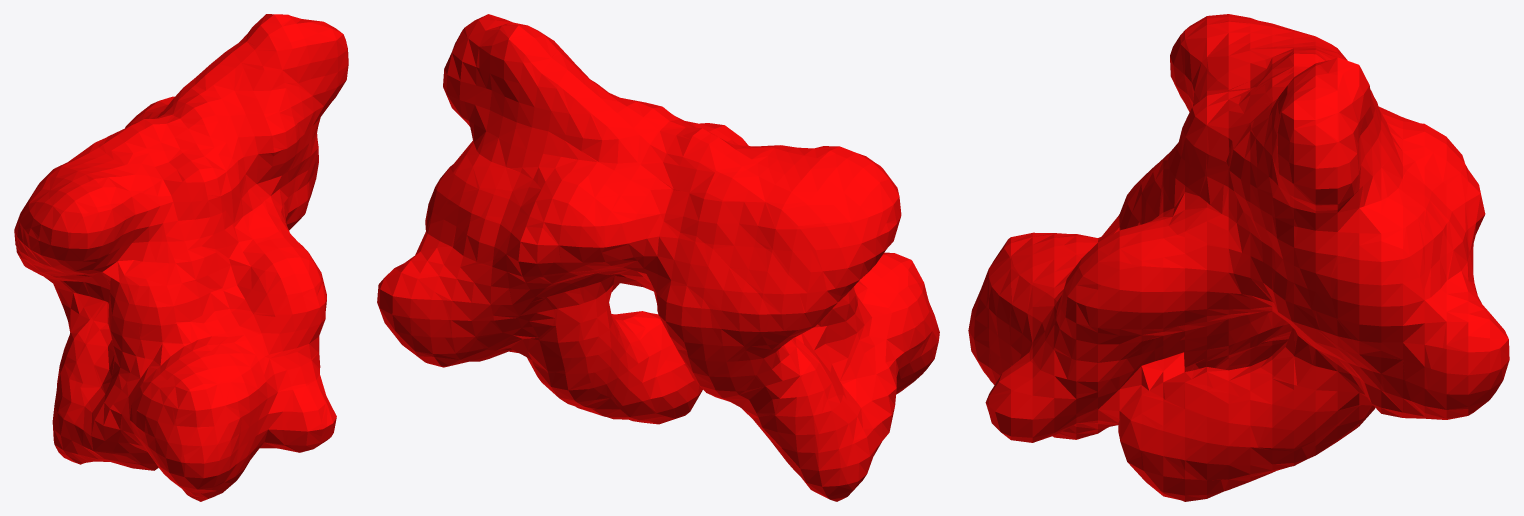
The model's file is gsiC_coarse.dae.
3 views of the same model, side by side, from view 1: azimuth 30°, elevation 25°; view 2: azimuth 150°, elevation 25°; view 3: azimuth 270°, elevation 25° (orthographic). The views are drawn at different scales.
Visible parts, largest first — view 1: gsiC; view 2: gsiC; view 3: gsiC.
Part boxes in pixels (box(x1,y1,x2,y2)): gsiC: box(14, 14, 348, 501); gsiC: box(377, 14, 939, 501); gsiC: box(968, 14, 1509, 501).
Size of the model in its own units: 62.75 by 63.98 by 64.01.
